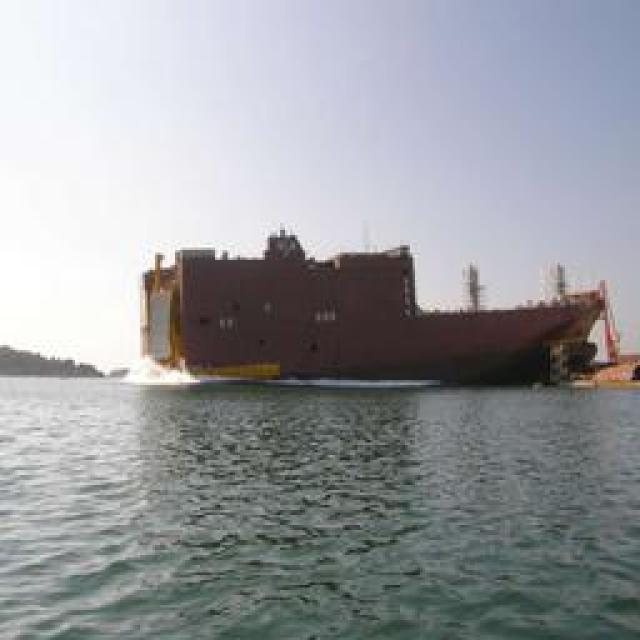ship2: (140, 220, 608, 387)
